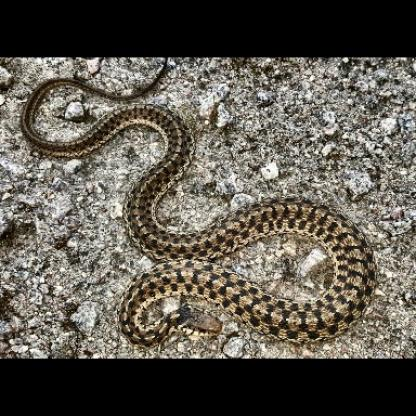Snake: (17, 75, 376, 351)
